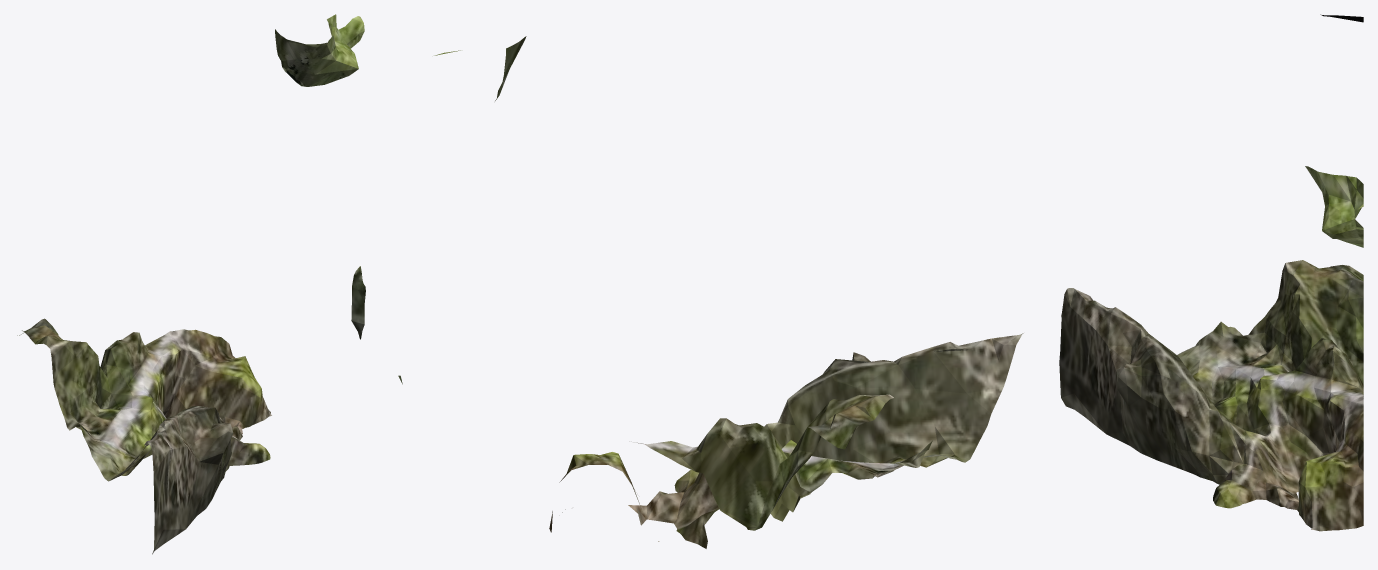
The picture shows the model from 3 angles, left to right: view 1: azimuth 30°, elevation 25°; view 2: azimuth 150°, elevation 25°; view 3: azimuth 270°, elevation 25°; orthographic projection. The views are drawn at different scales.
Bounding box in the file's own units: 2.95 × 2.95 × 2.07.
2 materials, 2 textured.
